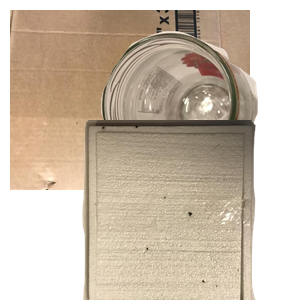cardboard: (10, 10, 250, 190)
glass: (98, 29, 300, 198)
plastic: (92, 176, 257, 300)
trash: (80, 120, 300, 300)
